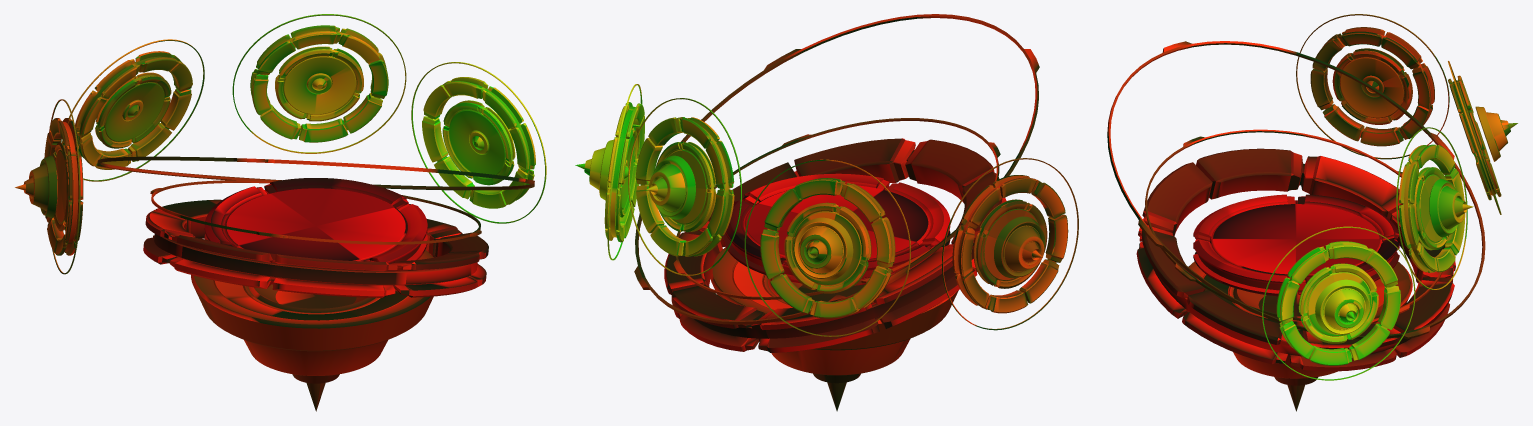
The model's file is stage.FBX.
3 renders of one model, left to right at view 1: azimuth 30°, elevation 25°; view 2: azimuth 150°, elevation 25°; view 3: azimuth 270°, elevation 25°, orthographic. The views are drawn at different scales.
Visible parts, largest first — view 1: U_Char, map; view 2: U_Char, map; view 3: map, U_Char.
Boxes of the visible parts, box(x1,y1,x2,y2) form: U_Char: box(15, 14, 546, 411); map: box(97, 156, 534, 297); U_Char: box(575, 65, 1078, 411); map: box(634, 14, 1039, 352); map: box(1107, 41, 1485, 371); U_Char: box(1188, 14, 1517, 411).
Size of the model in its own units: 476 by 382 by 318.
